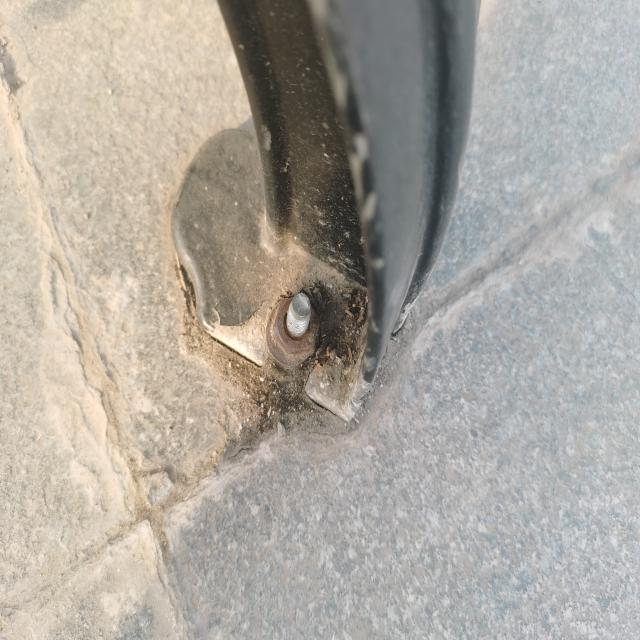bolt nut: (269, 292, 322, 359)
